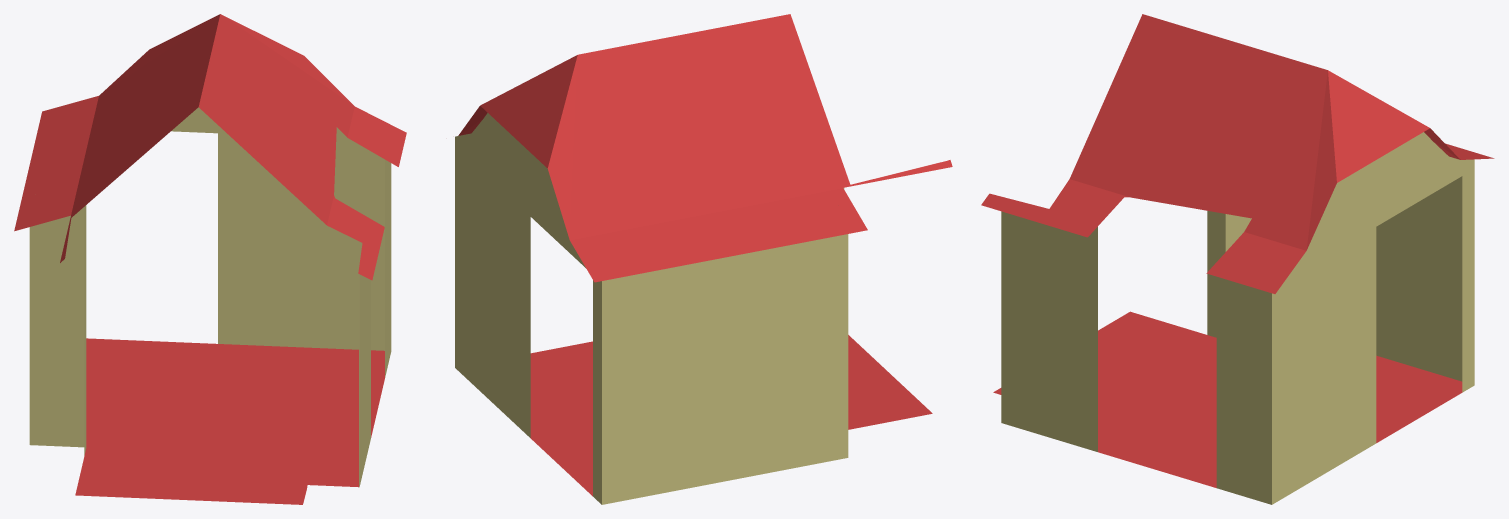
The picture shows the model from 3 angles, left to right: view 1: azimuth 30°, elevation 25°; view 2: azimuth 150°, elevation 25°; view 3: azimuth 270°, elevation 25°; orthographic projection. The views are drawn at different scales.
Size of the model in its own units: 17.17 by 17.72 by 13.79.
